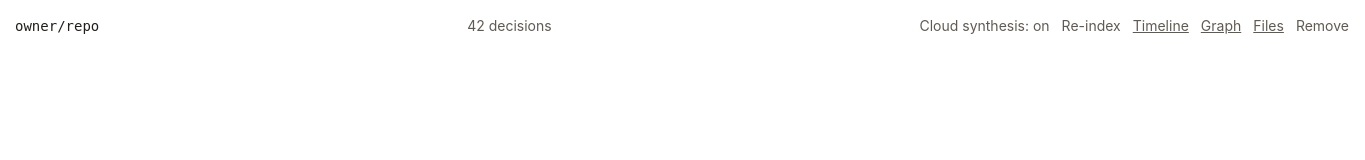
Test: RepoRow › reverts the toggle and shows an inline error when the PATCH fails
Step 1. Click the switch labelled "Cloud synthesis: on" → (985, 26), box [920, 16, 1050, 36]
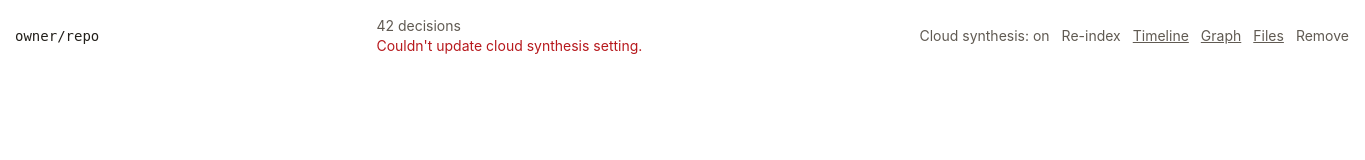
Expected: the switch labelled "Cloud synthesis: on" is shown, [920, 26, 1050, 46]
Now the message reads "Couldn't update cloud synthesis setting.", box [376, 37, 642, 54]
